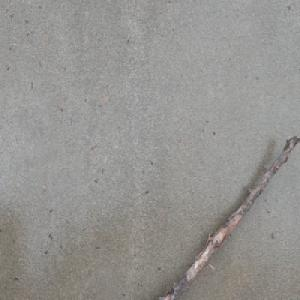Wood: (156, 134, 300, 300)
